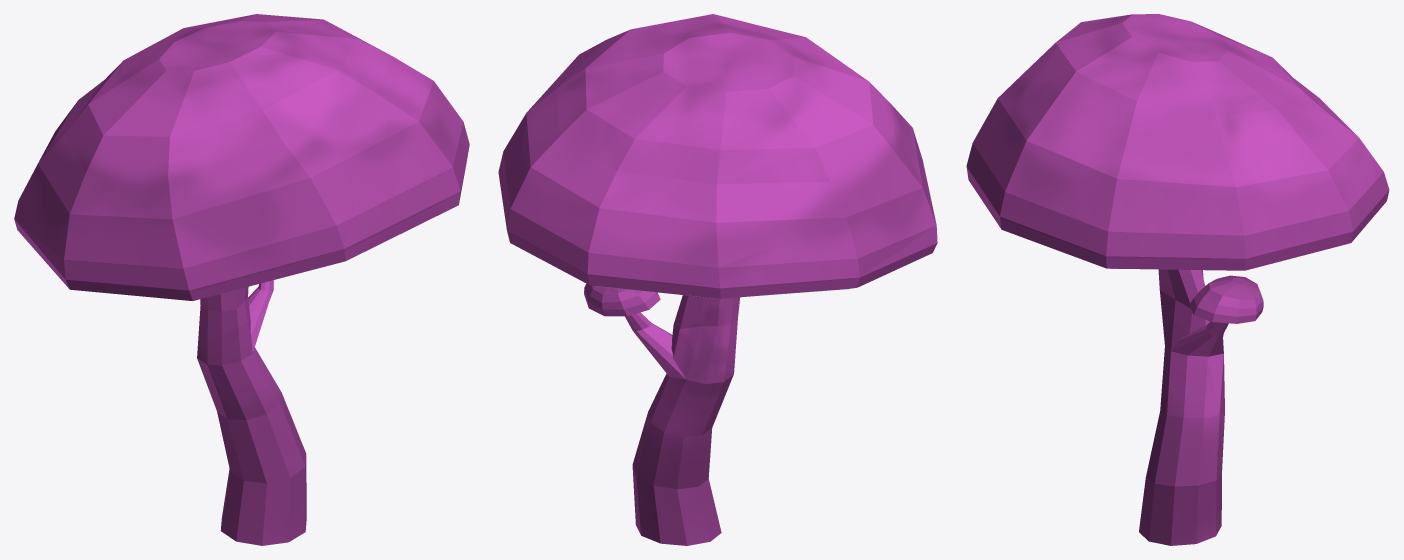
Rendered from big_mushroom3.fbx.
3 views of the same model, side by side, from view 1: azimuth 30°, elevation 25°; view 2: azimuth 150°, elevation 25°; view 3: azimuth 270°, elevation 25° (orthographic). The views are drawn at different scales.
Parts seen in each view (by area): view 1: Cylinder.002; view 2: Cylinder.002; view 3: Cylinder.002.
Part boxes in pixels (<box>): Cylinder.002: <box>14,14,469,545</box>; Cylinder.002: <box>498,14,937,545</box>; Cylinder.002: <box>966,14,1389,545</box>.
Size of the model in its own units: 1532 by 1849 by 1474.
